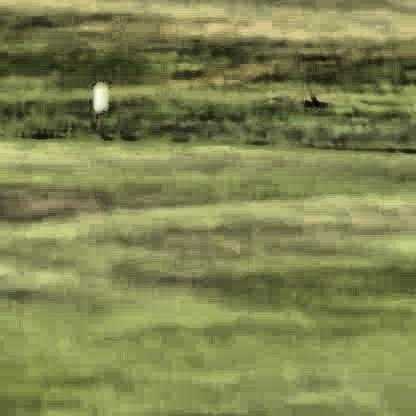golfball: (91, 79, 107, 107)
